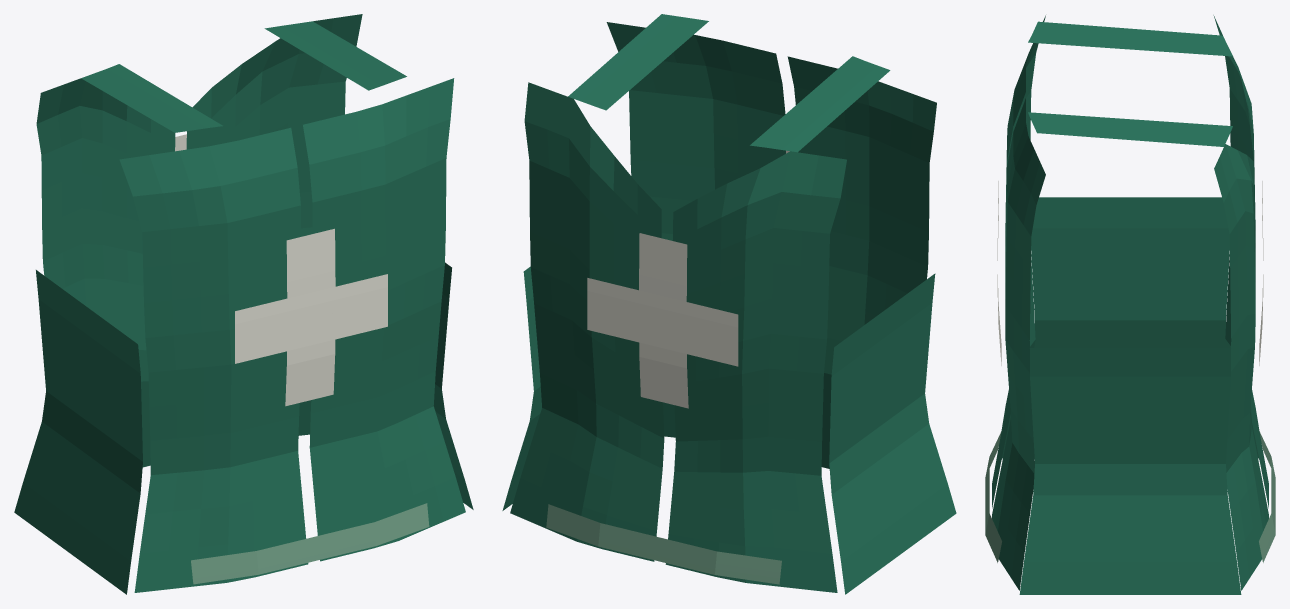
File: lwf_medic_male_overlay_v1.glb
3 renders of one model, left to right at view 1: azimuth 30°, elevation 25°; view 2: azimuth 150°, elevation 25°; view 3: azimuth 270°, elevation 25°, orthographic.
Parts seen in each view (by area): view 1: LWF_Medic_Male_Overlay; view 2: LWF_Medic_Male_Overlay; view 3: LWF_Medic_Male_Overlay.
Boxes of the visible parts, x1,y1,x2,y2 form: LWF_Medic_Male_Overlay: (14,14,473,594); LWF_Medic_Male_Overlay: (502,14,956,594); LWF_Medic_Male_Overlay: (985,15,1275,594).
Size of the model in its own units: 0.3587 by 0.436 by 0.2643.
1 material, 1 textured.
